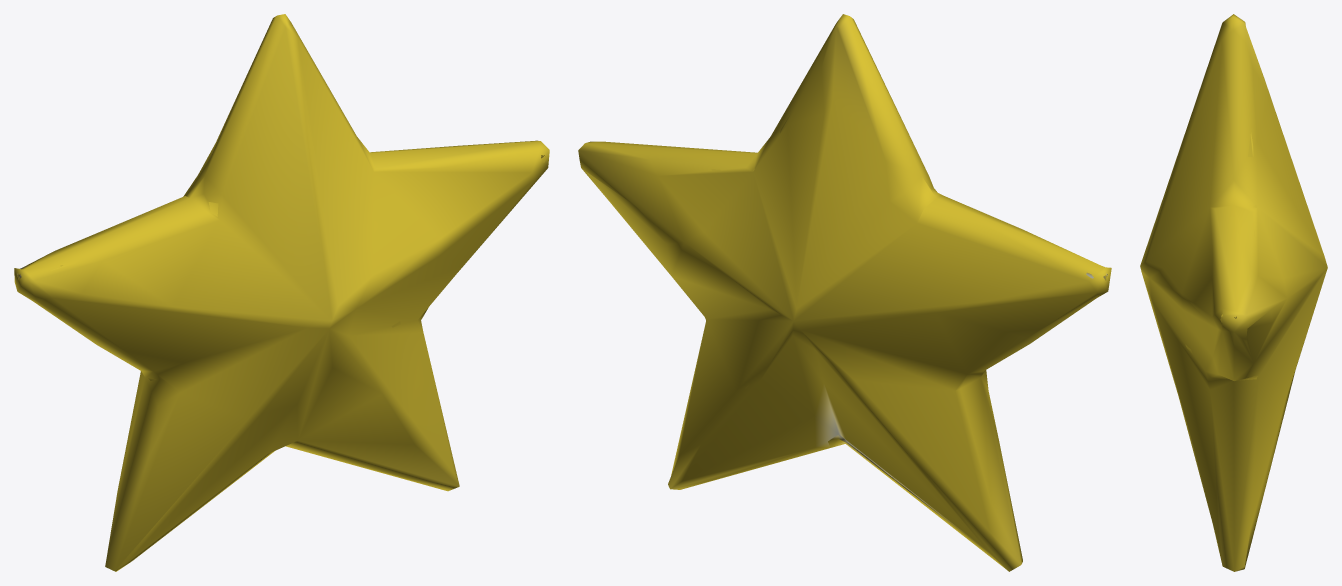
The model's file is gen3d-gold-star-pickup-lod1.glb.
The picture shows the model from 3 angles, left to right: view 1: azimuth 30°, elevation 25°; view 2: azimuth 150°, elevation 25°; view 3: azimuth 270°, elevation 25°; orthographic projection. The views are drawn at different scales.
Visible parts, largest first — view 1: part_0; view 2: part_0; view 3: part_0.
Part boxes in pixels (bbox=[...]): part_0: bbox=[14, 14, 549, 571]; part_0: bbox=[578, 14, 1111, 571]; part_0: bbox=[1140, 14, 1327, 571].
Size of the model in its own units: 1.06 by 0.9965 by 0.3533.
